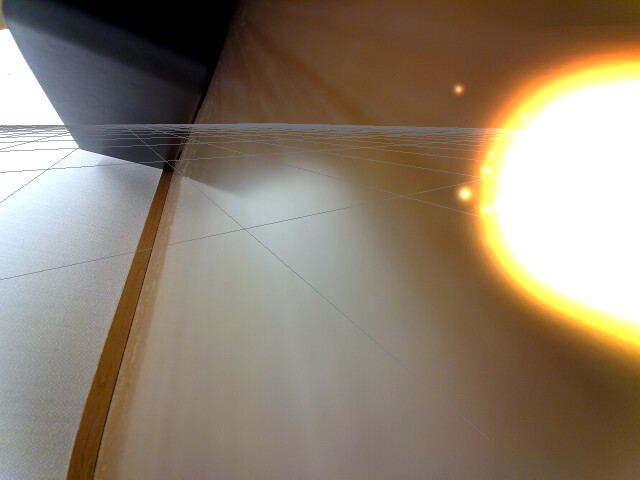firebig: (454, 44, 640, 355)
